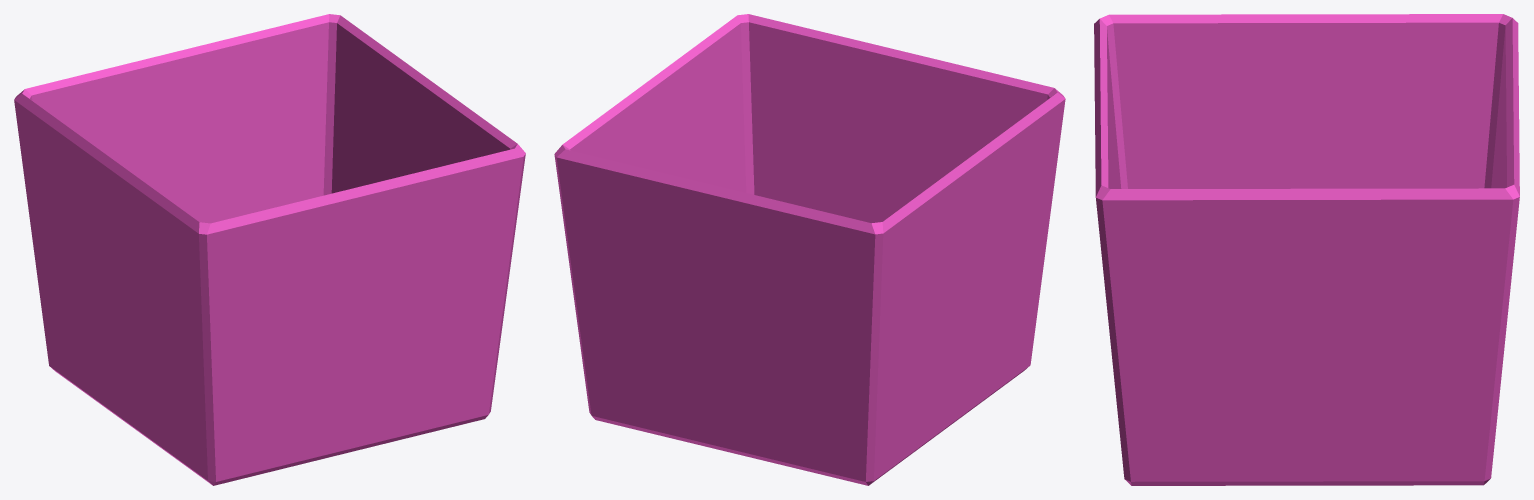
Rendered from Piggy Bank-Gift Box-2-Pink-Empty.fbx.
3 views of the same model, side by side, from view 1: azimuth 30°, elevation 25°; view 2: azimuth 150°, elevation 25°; view 3: azimuth 270°, elevation 25° (orthographic). The views are drawn at different scales.
Visible parts, largest first — view 1: Piggy Bank-Gift Box-2-Under; view 2: Piggy Bank-Gift Box-2-Under; view 3: Piggy Bank-Gift Box-2-Under.
Boxes of the visible parts, <box> form: Piggy Bank-Gift Box-2-Under: <box>14,14,525,485</box>; Piggy Bank-Gift Box-2-Under: <box>554,14,1065,485</box>; Piggy Bank-Gift Box-2-Under: <box>1094,14,1519,485</box>.
Size of the model in its own units: 27.01 by 21.67 by 27.01.
